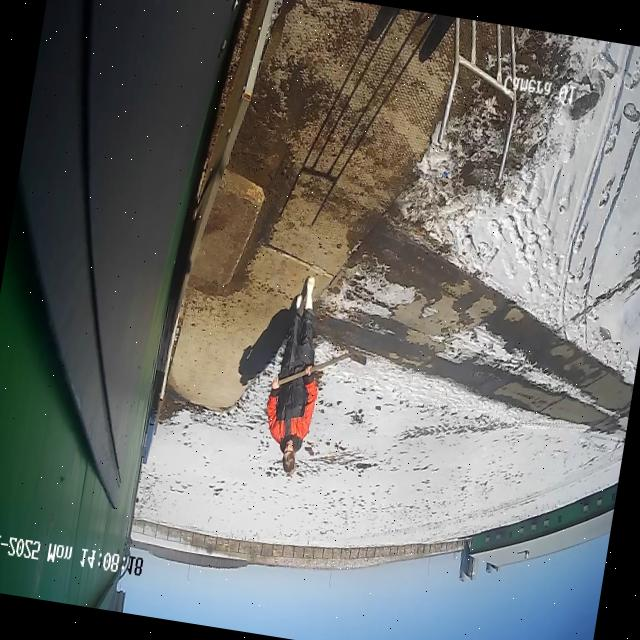Red uniform: (266, 277, 318, 475)
